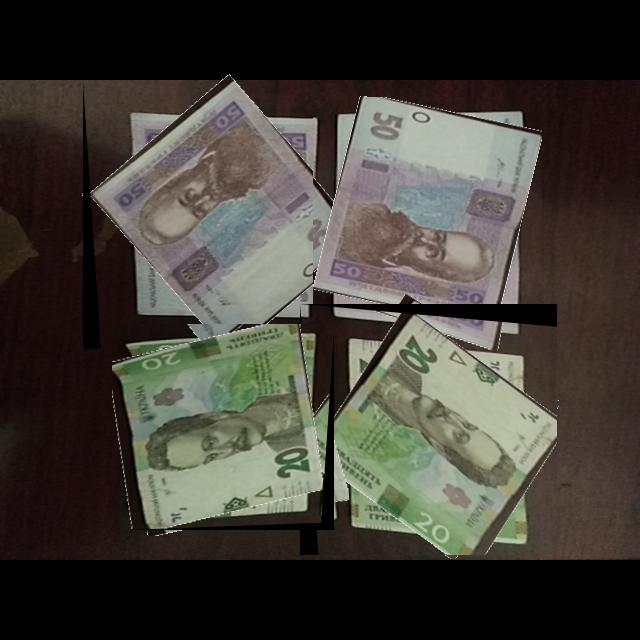20uah: (309, 312, 558, 556), (112, 324, 327, 530)
50uah: (89, 82, 354, 350), (313, 97, 543, 330)
